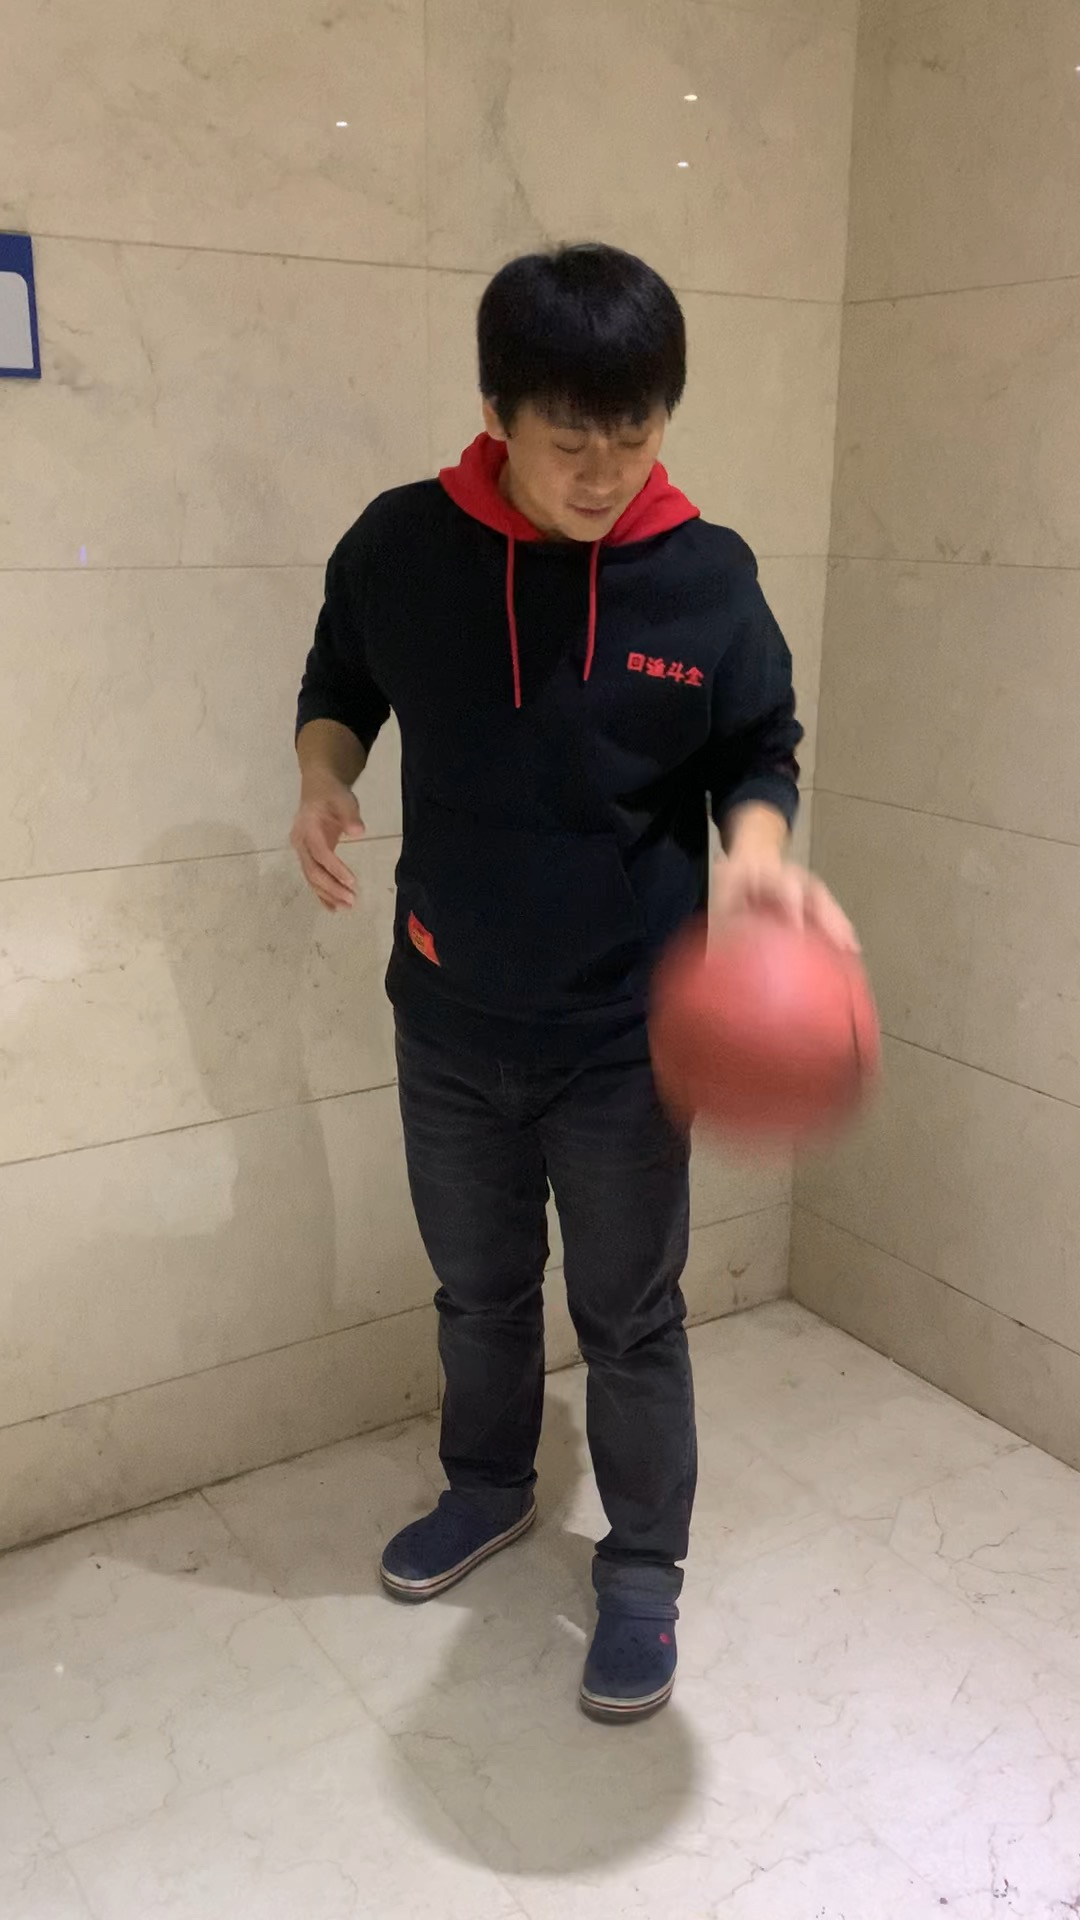ball: (646, 913, 881, 1153)
